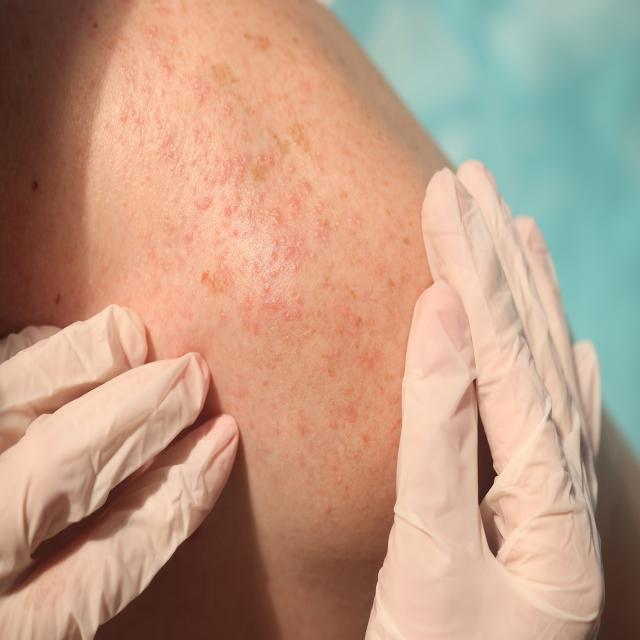hives: (43, 3, 432, 444)
